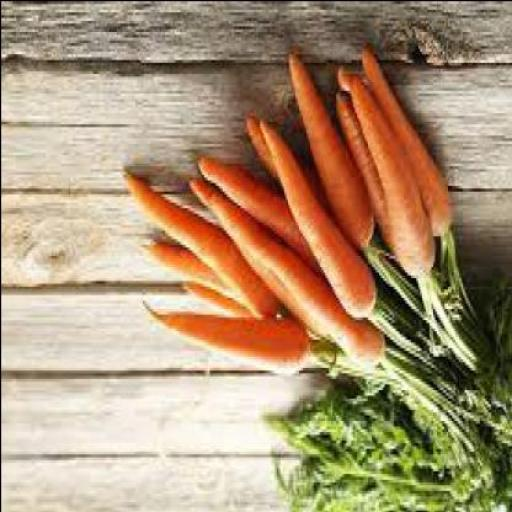biodegradable: (208, 196, 380, 375), (264, 392, 506, 510), (380, 296, 508, 498), (256, 117, 374, 322), (119, 174, 276, 318), (186, 179, 312, 342), (352, 252, 510, 381), (285, 53, 372, 252), (348, 81, 432, 283), (358, 53, 448, 237), (191, 162, 311, 274), (138, 299, 308, 378), (333, 92, 391, 260), (430, 235, 492, 375), (135, 243, 229, 319), (176, 285, 256, 319), (244, 121, 274, 187), (331, 58, 356, 98)
